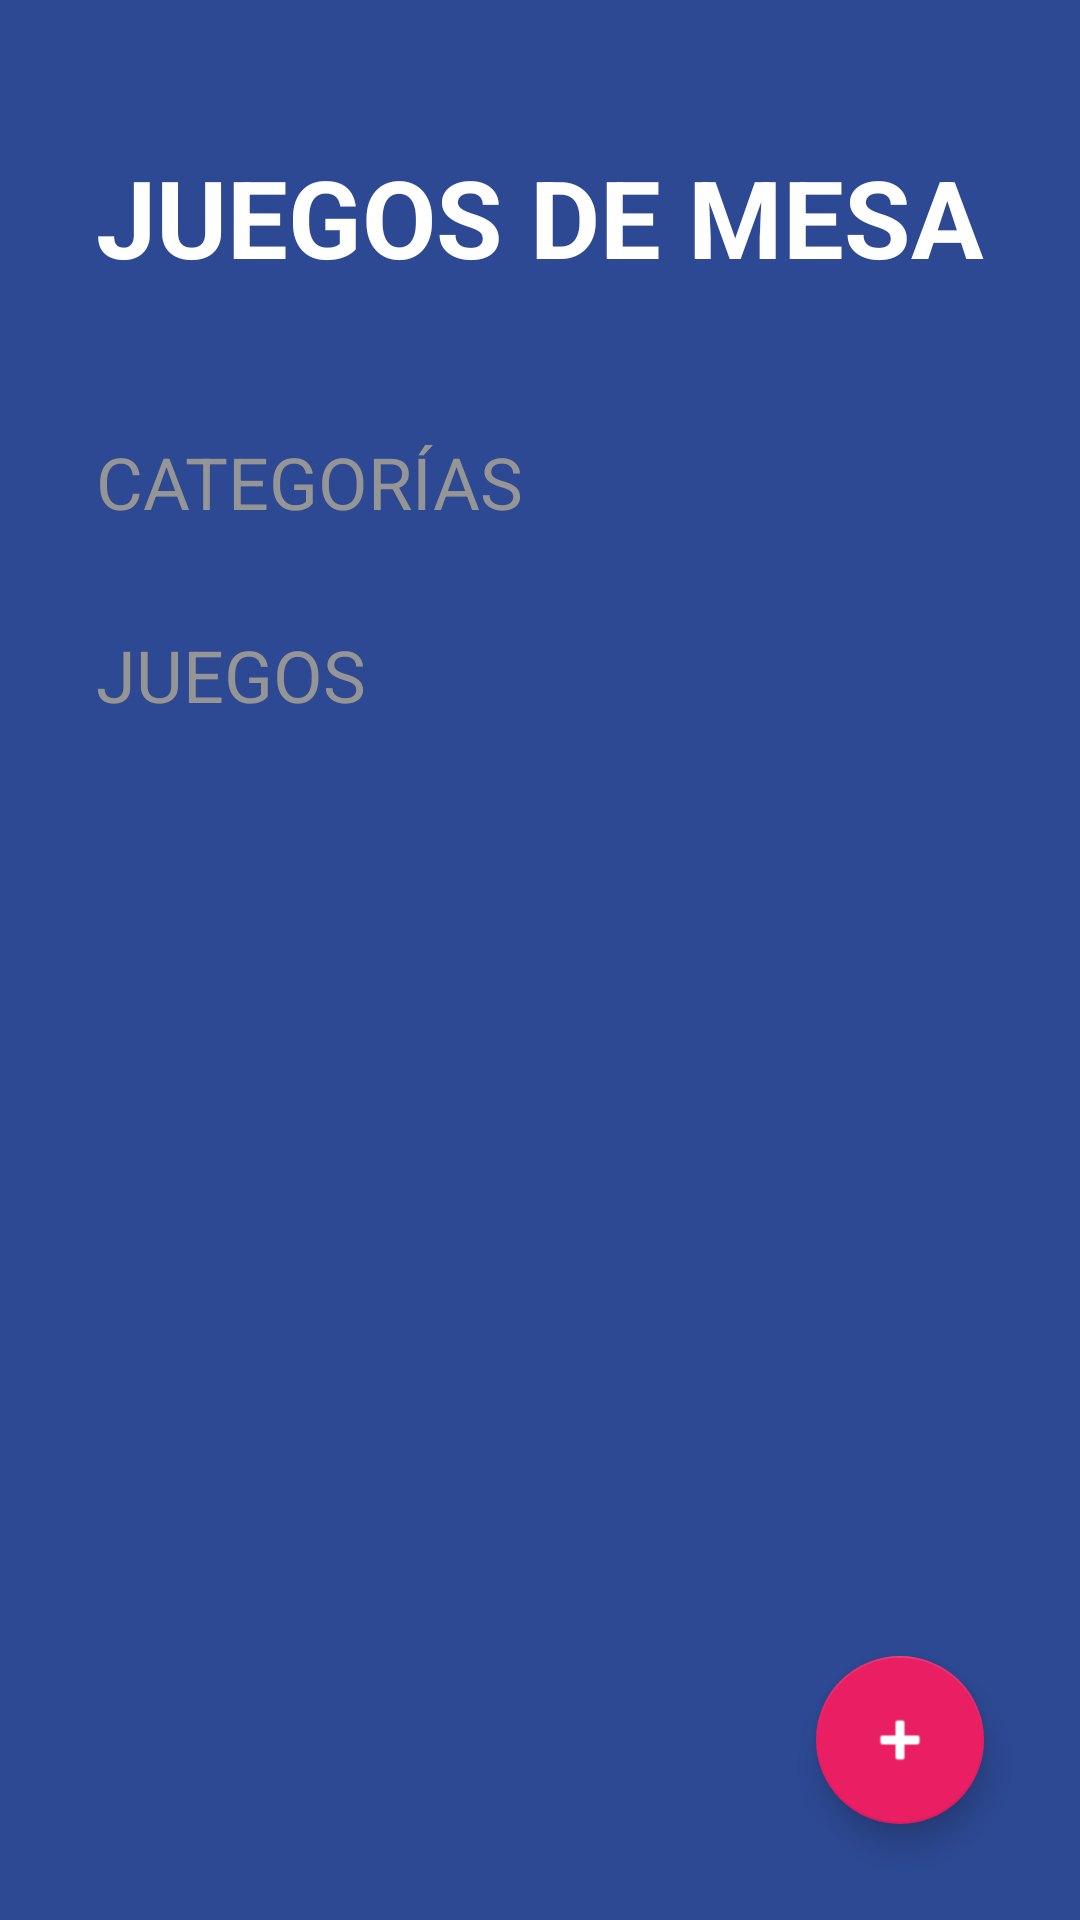

Icon click points for this 1080*1920 phone screenshot, format [x,y]:
Añade un juego: [900,1740]
